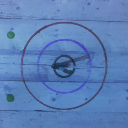Axe Tip: (59, 63, 69, 67)
